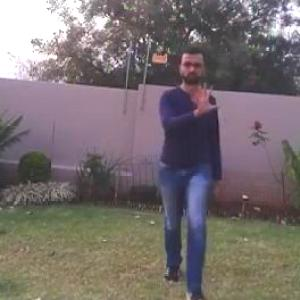follow_hand: (190, 78, 222, 116)
